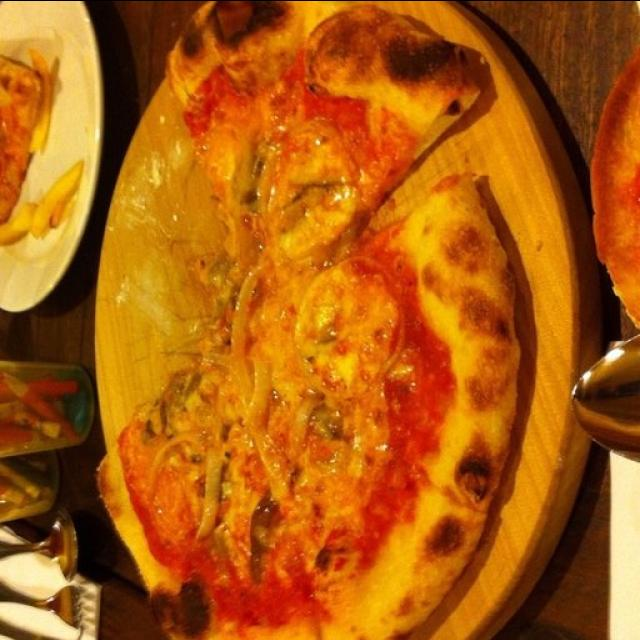pizza: (97, 0, 519, 640)
